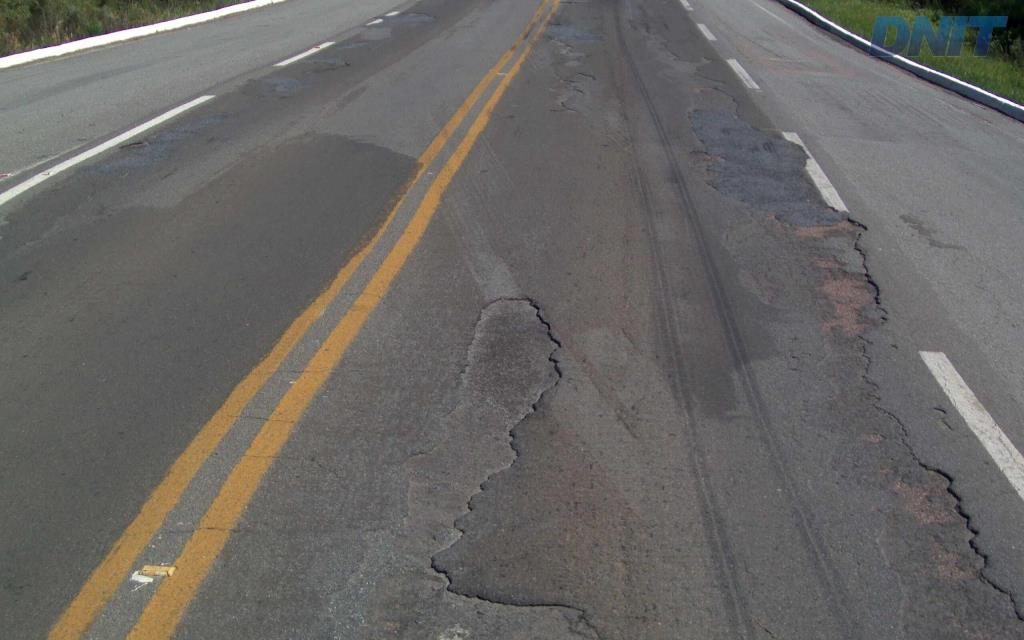pothole: (289, 293, 631, 638), (767, 188, 1022, 638), (531, 65, 599, 120), (683, 144, 724, 173)
